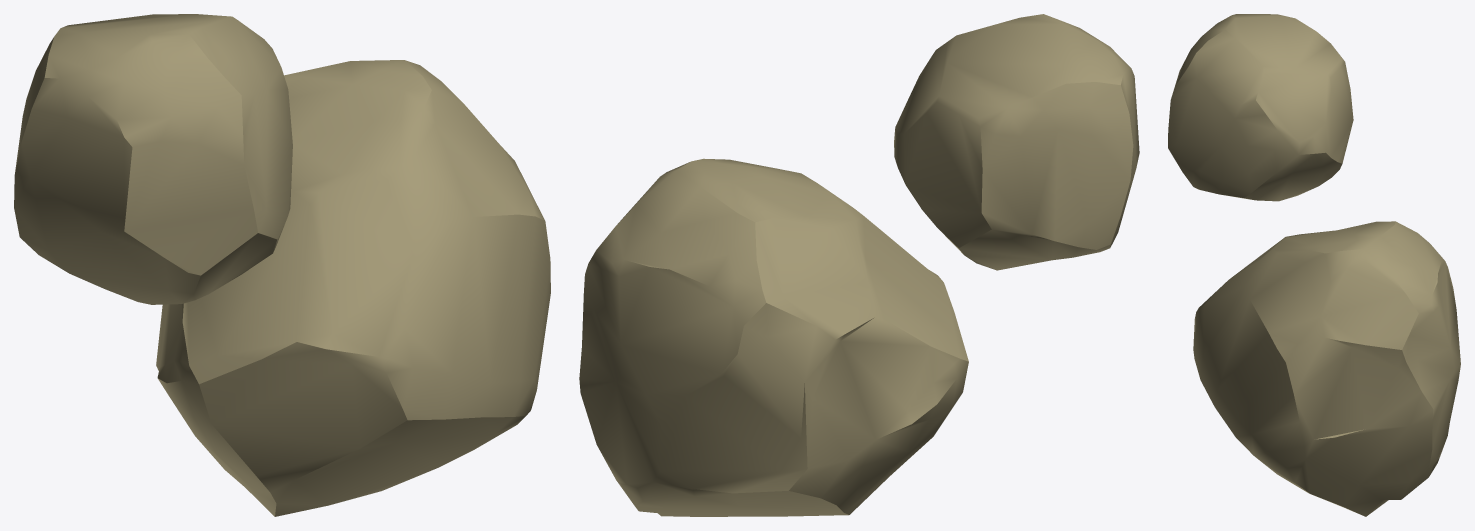
The model's file is beach_rocks_1.glb.
3 views of the same model, side by side, from view 1: azimuth 30°, elevation 25°; view 2: azimuth 150°, elevation 25°; view 3: azimuth 270°, elevation 25° (orthographic). The views are drawn at different scales.
Parts seen in each view (by area): view 1: UI_Rocks; view 2: UI_Rocks; view 3: UI_Rocks.
Part boxes in pixels (left/top/right/bottom): UI_Rocks: left=14, top=14, right=550, bottom=516; UI_Rocks: left=579, top=14, right=1139, bottom=516; UI_Rocks: left=1168, top=14, right=1460, bottom=516.
Size of the model in its own units: 0.4072 by 0.4131 by 0.2855.
1 material, 1 textured.
